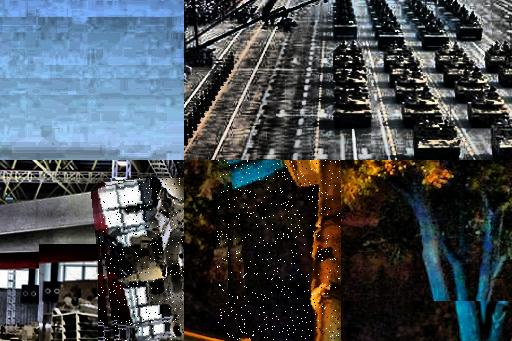tanks: (99, 179, 185, 341), (285, 161, 342, 341), (385, 46, 429, 104), (415, 121, 460, 161), (468, 87, 509, 127), (404, 88, 441, 127), (337, 96, 373, 129), (487, 43, 512, 88), (493, 120, 512, 161)
